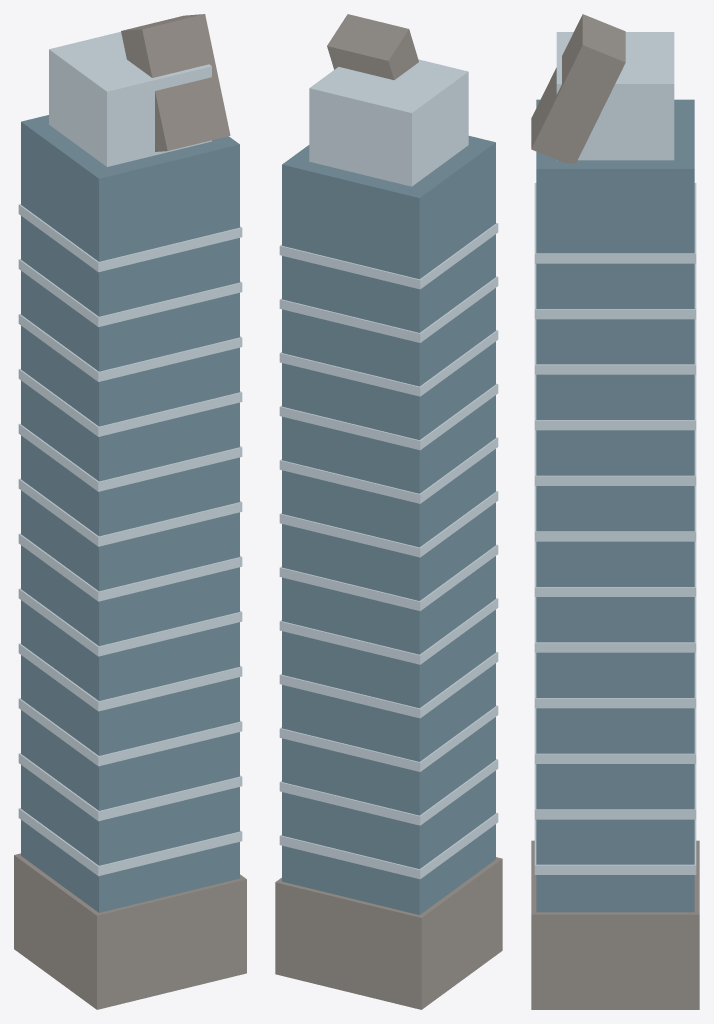
Rendered from citi.glb.
3 views of the same model, side by side, from view 1: azimuth 30°, elevation 25°; view 2: azimuth 150°, elevation 25°; view 3: azimuth 270°, elevation 25° (orthographic). The views are drawn at different scales.
Parts seen in each view (by area): view 1: citi, citi-notch; view 2: citi, citi-notch; view 3: citi, citi-notch.
Part boxes in pixels (left/top/right/bottom): citi: left=14, top=31, right=246, bottom=1009; citi-notch: left=121, top=14, right=230, bottom=151; citi: left=275, top=59, right=502, bottom=1009; citi-notch: left=327, top=14, right=418, bottom=79; citi: left=531, top=32, right=699, bottom=1009; citi-notch: left=531, top=14, right=625, bottom=163.
Bounding box in the file's own units: 0.4492 × 2.71 × 0.4315.
